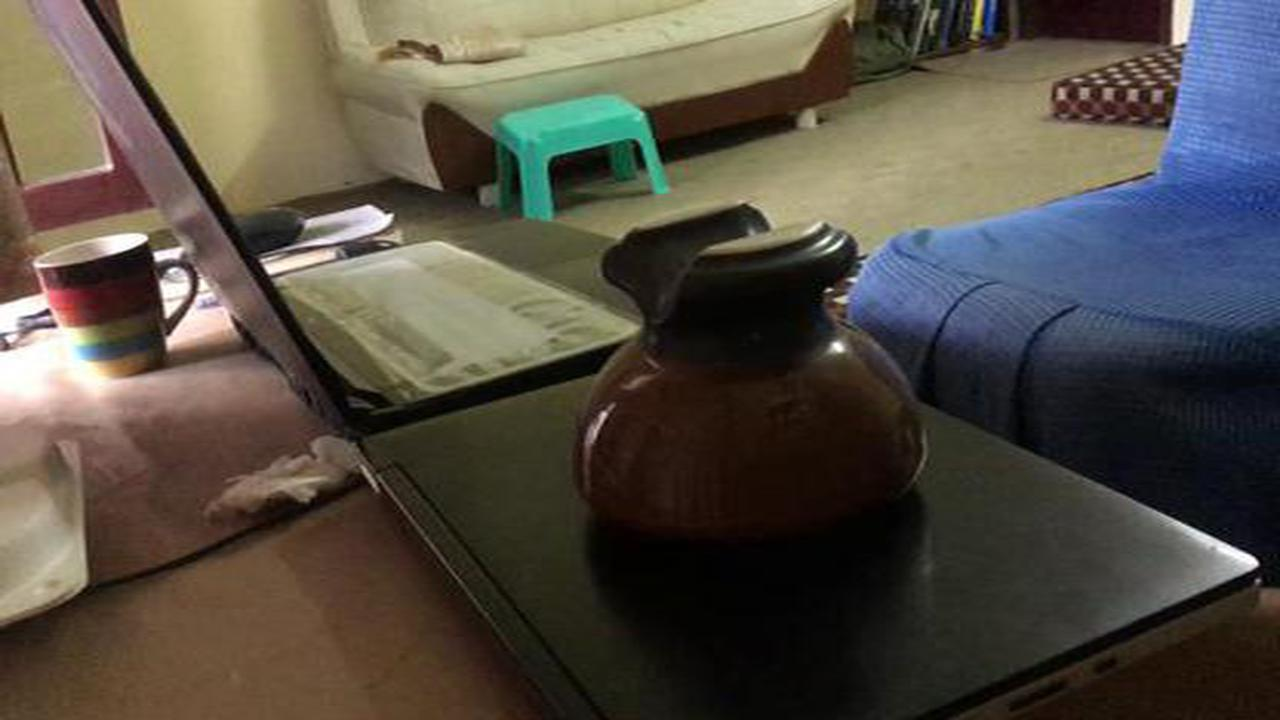insulator_pin: (545, 194, 957, 570)
